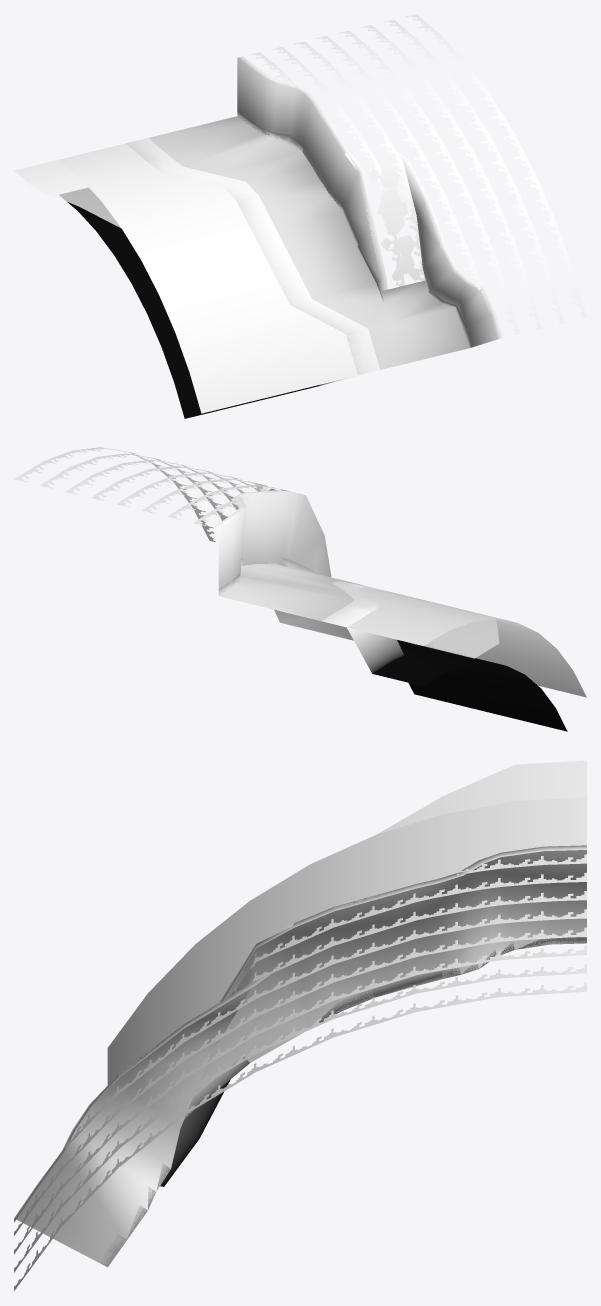
The model's file is grd_Msw_w_S_2.dae.
The picture shows the model from 3 angles, top to bottom: view 1: azimuth 30°, elevation 25°; view 2: azimuth 150°, elevation 25°; view 3: azimuth 270°, elevation 25°; orthographic projection. The views are drawn at different scales.
Parts seen in each view (by area): view 1: grd_Msw_w_S_2; view 2: grd_Msw_w_S_2; view 3: grd_Msw_w_S_2.
Boxes of the visible parts, <box> form: grd_Msw_w_S_2: <box>14,14,586,418</box>; grd_Msw_w_S_2: <box>14,447,586,731</box>; grd_Msw_w_S_2: <box>14,760,586,1290</box>.
Bounding box in the file's own units: 576 × 308 × 423.
7 materials, 1 textured.
